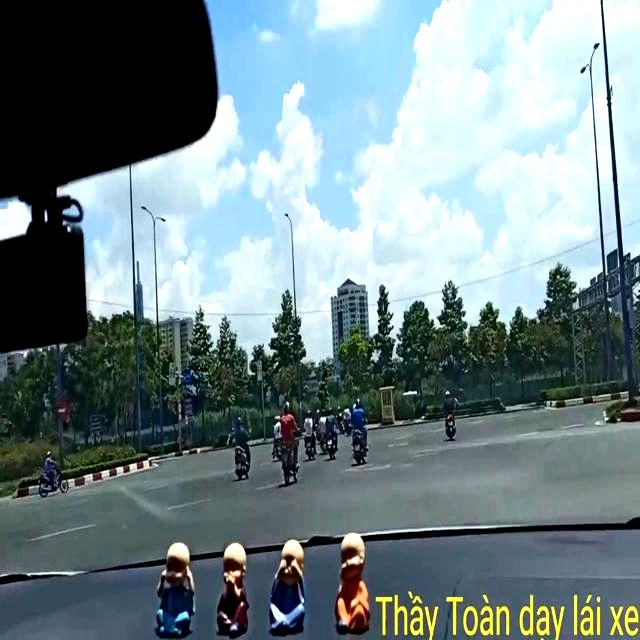Cấm các phương tiện hoạt động trong khung giờ cố định: (168, 357, 177, 386)
Cấm đi ngược chiều: (55, 396, 68, 422)
